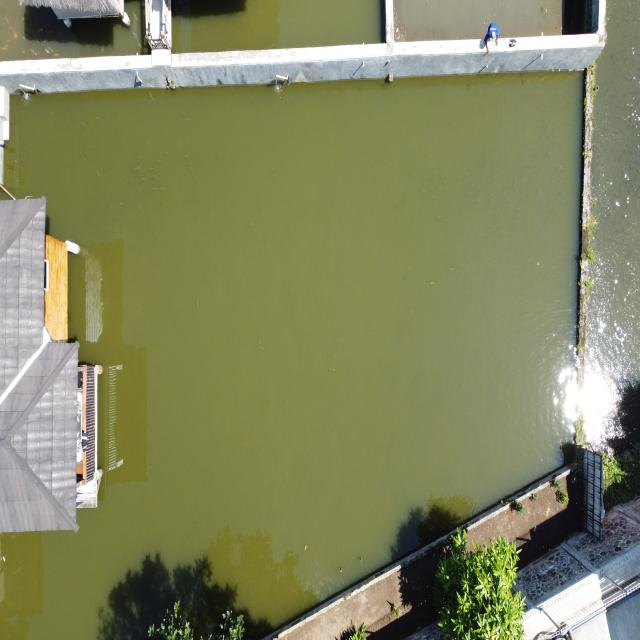Ponds: (1, 60, 597, 640)
